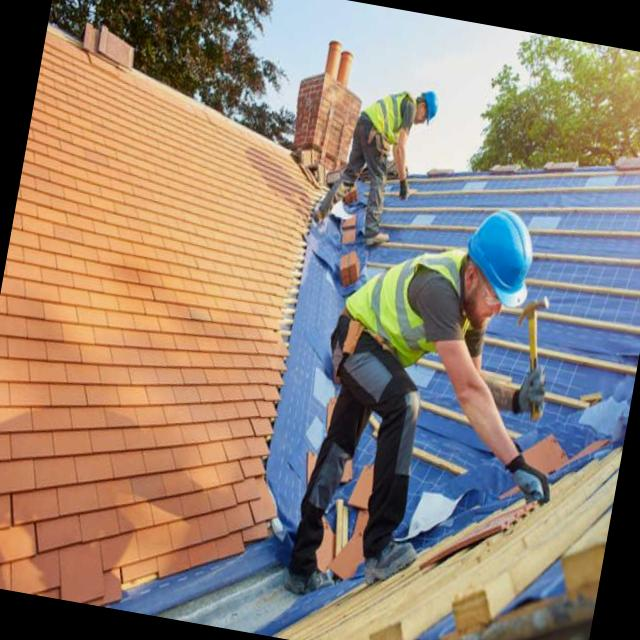goggles: (467, 270, 512, 318)
helmet: (452, 202, 545, 324), (416, 86, 442, 130)
vest: (330, 230, 466, 380), (360, 84, 412, 144)
